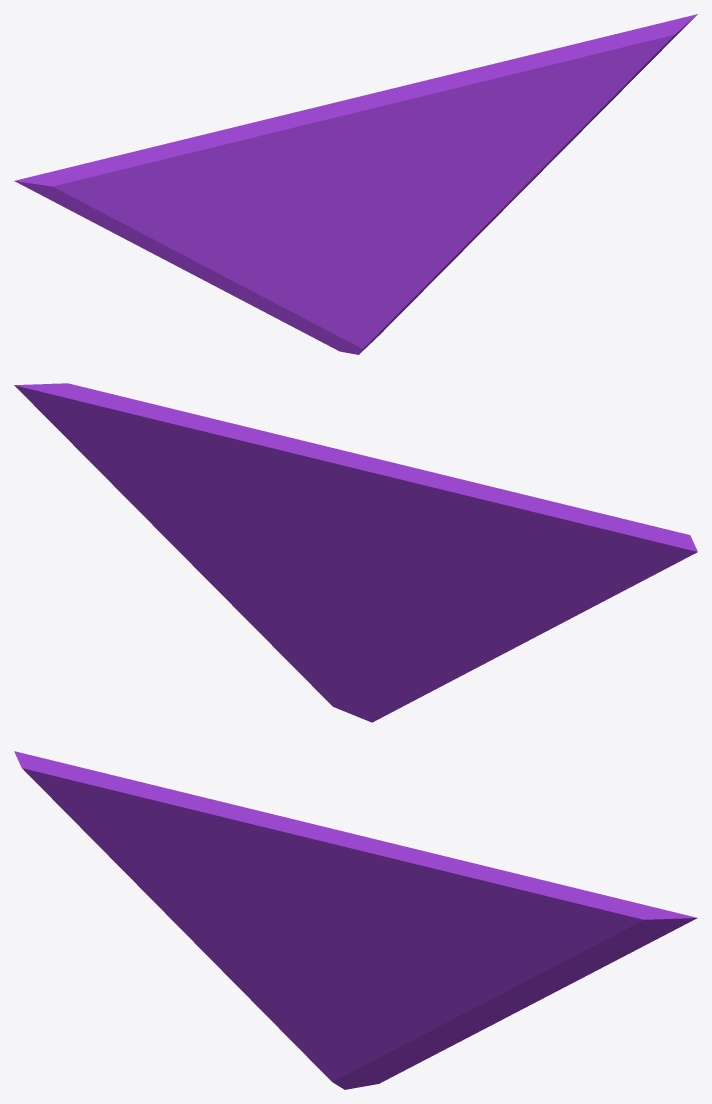
The model's file is Glass_97_6_chunks.fbx.
3 renders of one model, top to bottom at view 1: azimuth 30°, elevation 25°; view 2: azimuth 150°, elevation 25°; view 3: azimuth 330°, elevation 25°, orthographic.
Visible parts, largest first — view 1: Glass_97_6_3, Glass_97_6_2, Glass_97_6_0, Glass_97_6_1; view 2: Glass_97_6_3, Glass_97_6_2, Glass_97_6_1; view 3: Glass_97_6_2, Glass_97_6_3, Glass_97_6_0, Glass_97_6_1.
Part boxes in pixels (bbox=[...]): Glass_97_6_3: bbox=[14, 79, 444, 270]; Glass_97_6_2: bbox=[375, 14, 697, 311]; Glass_97_6_0: bbox=[197, 218, 402, 346]; Glass_97_6_1: bbox=[175, 265, 404, 354]; Glass_97_6_3: bbox=[280, 439, 697, 636]; Glass_97_6_2: bbox=[14, 383, 354, 679]; Glass_97_6_1: bbox=[307, 586, 536, 722]; Glass_97_6_2: bbox=[344, 853, 697, 1069]; Glass_97_6_3: bbox=[14, 751, 431, 956]; Glass_97_6_0: bbox=[172, 920, 372, 1079]; Glass_97_6_1: bbox=[328, 1064, 404, 1089].
Bounding box in the file's own units: 697 × 245 × 27.2.
